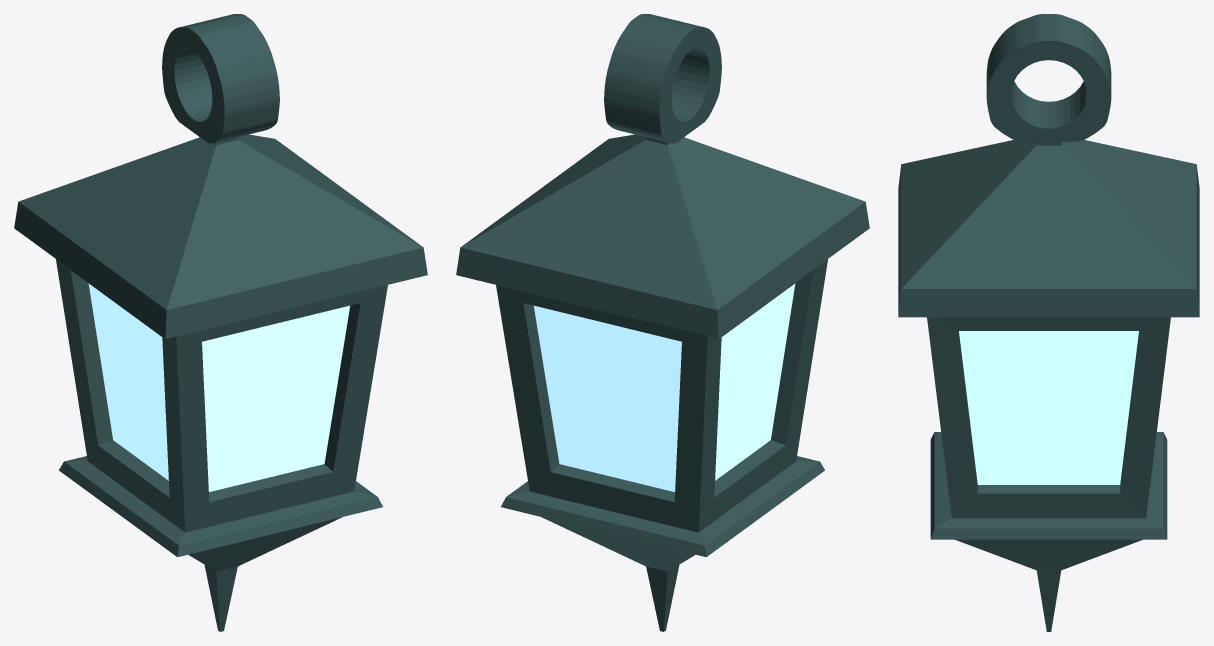
The picture shows the model from 3 angles, left to right: view 1: azimuth 30°, elevation 25°; view 2: azimuth 150°, elevation 25°; view 3: azimuth 270°, elevation 25°; orthographic projection.
Visible parts, largest first — view 1: StreetLantern; view 2: StreetLantern; view 3: StreetLantern.
Part boxes in pixels (x1,y1,x2,y2): StreetLantern: (14,14,427,631); StreetLantern: (456,14,869,631); StreetLantern: (898,14,1199,631).
Bounding box in the file's own units: 40.87 × 90.24 × 40.87.
1 material, 1 textured.
